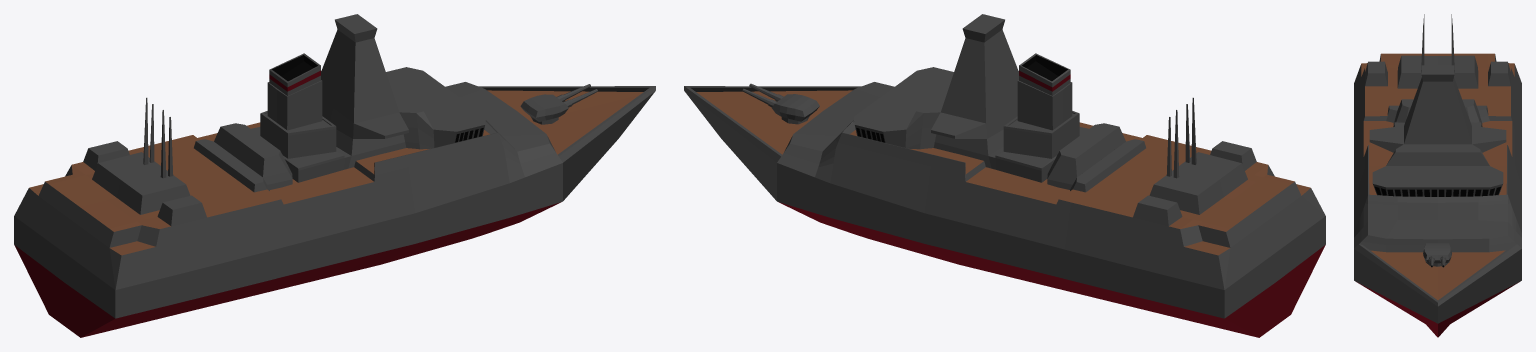
The model's file is corvette.fbx.
3 renders of one model, left to right at view 1: azimuth 30°, elevation 25°; view 2: azimuth 150°, elevation 25°; view 3: azimuth 270°, elevation 25°, orthographic. The views are drawn at different scales.
Parts seen in each view (by area): view 1: Corvette, działko; view 2: Corvette, działko; view 3: Corvette, działko.
Part boxes in pixels (x1=…): Corvette: x1=14, y1=14, x2=655, y2=337; działko: x1=520, y1=84, x2=597, y2=124; Corvette: x1=684, y1=14, x2=1325, y2=337; działko: x1=742, y1=83, x2=819, y2=124; Corvette: x1=1354, y1=14, x2=1521, y2=337; działko: x1=1423, y1=243, x2=1451, y2=267.
Size of the model in its own units: 202 by 75.52 by 60.
